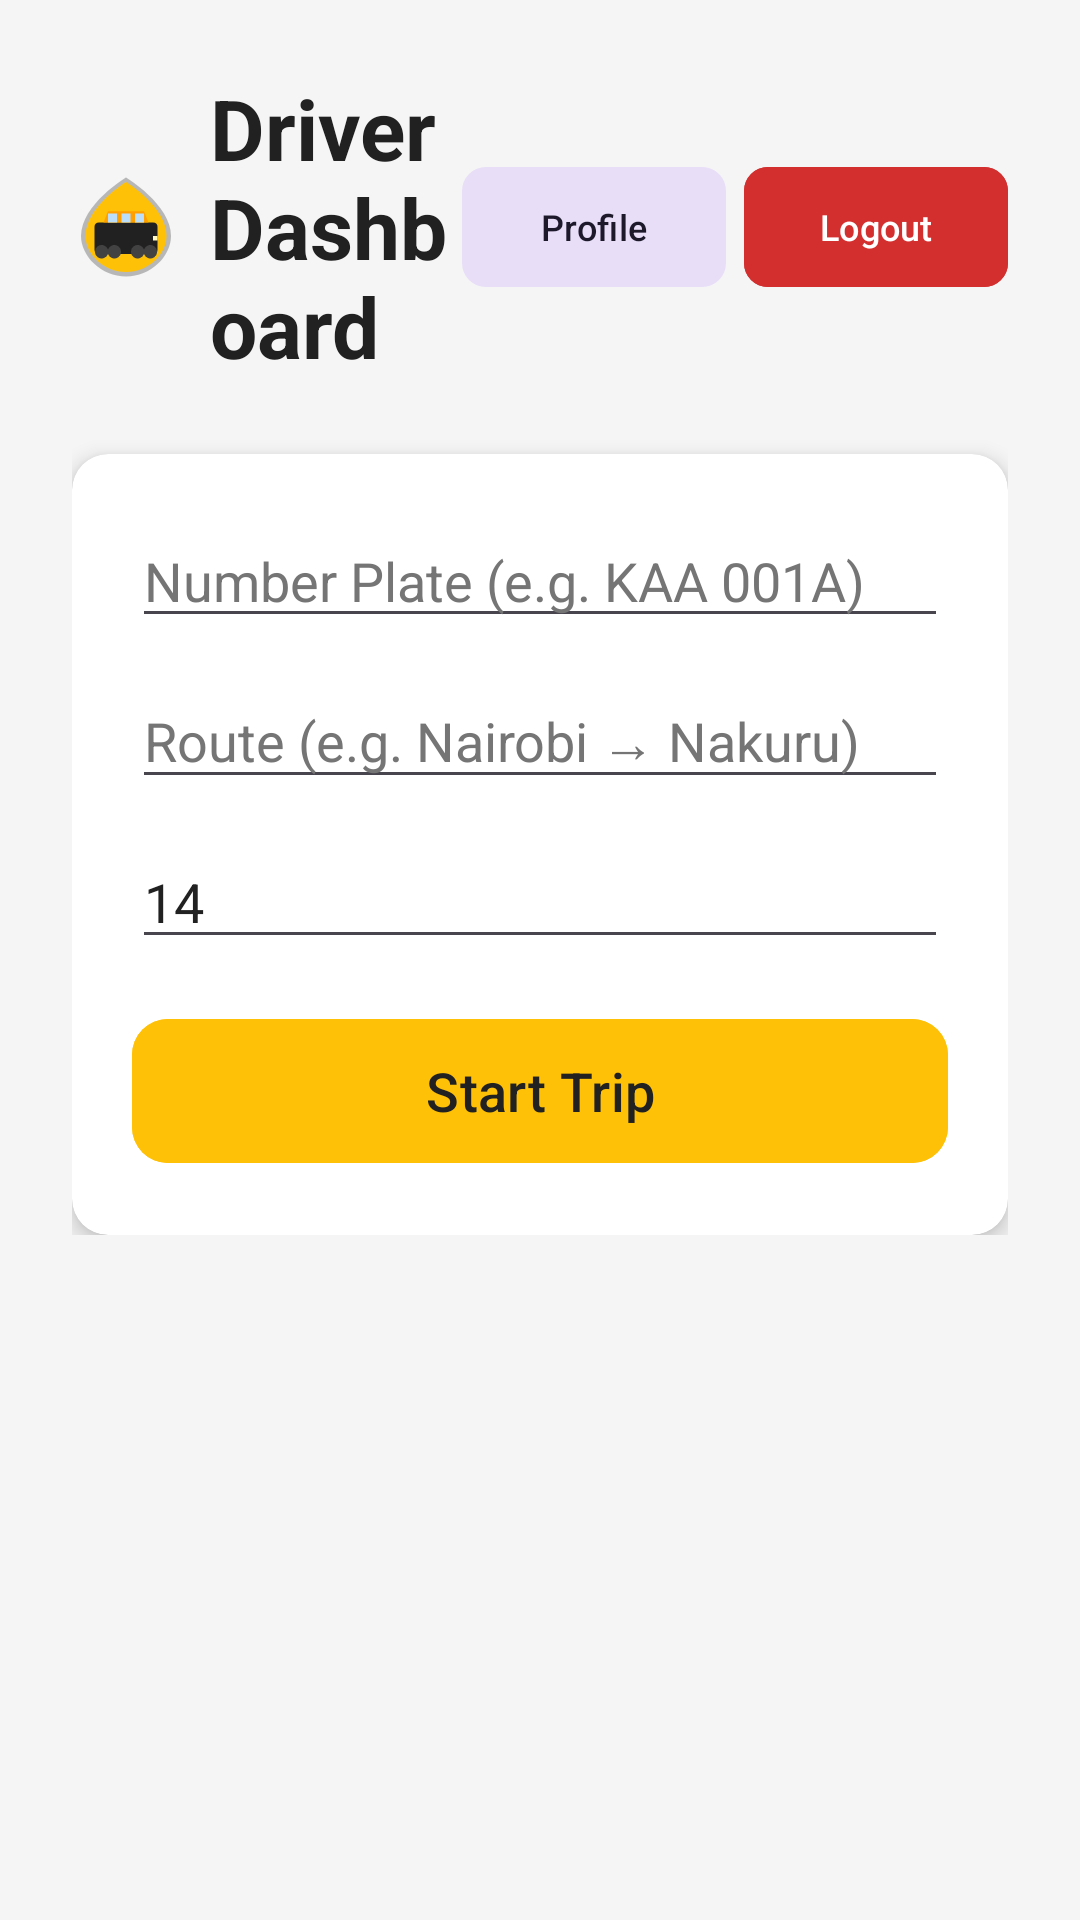

Icon bounding boxes for this 1080px x 1920px phone screenshot, format (x1, y1, x2, y2):
Matatu: (81, 178, 171, 277)
